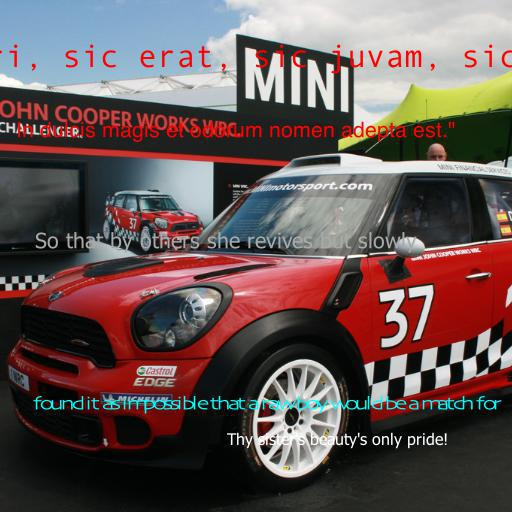Andale Mono: (0, 44, 512, 74)
Impact: (16, 121, 456, 142)
Skia: (32, 396, 500, 414)
Tahoma: (35, 232, 417, 253), (226, 432, 448, 449)
